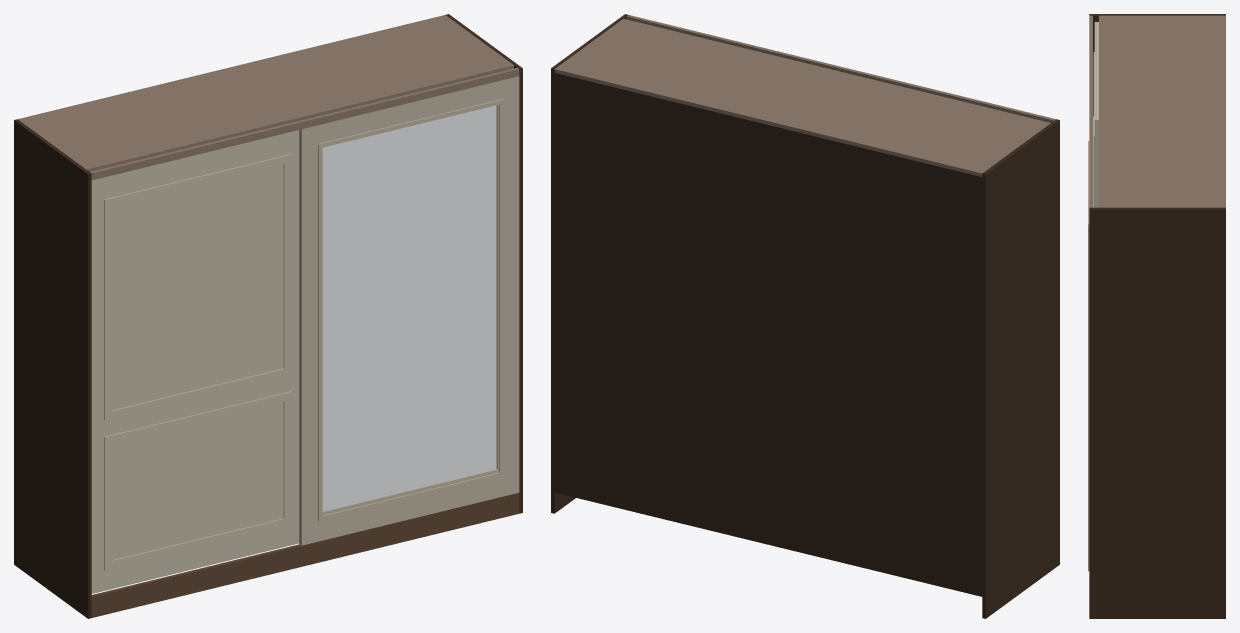
File: mirrorSlidingWardrobe.glb
3 views of the same model, side by side, from view 1: azimuth 30°, elevation 25°; view 2: azimuth 150°, elevation 25°; view 3: azimuth 270°, elevation 25° (orthographic). The views are drawn at different scales.
Visible parts, largest first — view 1: Left cream panelled door, Full-length mirror pane, Left side panel, Projecting dark top panel, Cream mirror door frame, Dark front plinth, Crown trim, Right side panel; view 2: Rear enclosure panel, Left side panel, Projecting dark top panel, Crown trim, Right side panel, Internal base panel; view 3: Right side panel, Projecting dark top panel, Left cream panelled door, Cream mirror door frame, Crown trim, Left side panel.
Part boxes in pixels (x1=…): Left cream panelled door: x1=91, y1=130, x2=299, y2=593; Full-length mirror pane: x1=322, y1=105, x2=496, y2=511; Left side panel: x1=14, y1=119, x2=91, y2=618; Projecting dark top panel: x1=18, y1=15, x2=513, y2=171; Cream mirror door frame: x1=299, y1=76, x2=519, y2=545; Dark front plinth: x1=91, y1=493, x2=519, y2=617; Crown trim: x1=90, y1=67, x2=519, y2=180; Right side panel: x1=445, y1=14, x2=522, y2=513; Rear enclosure panel: x1=554, y1=73, x2=982, y2=592; Left side panel: x1=982, y1=119, x2=1059, y2=618; Projecting dark top panel: x1=554, y1=18, x2=1050, y2=176; Crown trim: x1=626, y1=15, x2=1055, y2=122; Right side panel: x1=551, y1=14, x2=628, y2=513; Internal base panel: x1=554, y1=489, x2=982, y2=596; Right side panel: x1=1089, y1=207, x2=1225, y2=618; Projecting dark top panel: x1=1099, y1=15, x2=1225, y2=207; Left cream panelled door: x1=1093, y1=22, x2=1098, y2=207; Cream mirror door frame: x1=1088, y1=116, x2=1093, y2=571; Crown trim: x1=1089, y1=15, x2=1092, y2=207; Left side panel: x1=1089, y1=14, x2=1225, y2=116.
Bounding box in the file's own units: 2.2 × 2.15 × 0.6559.
